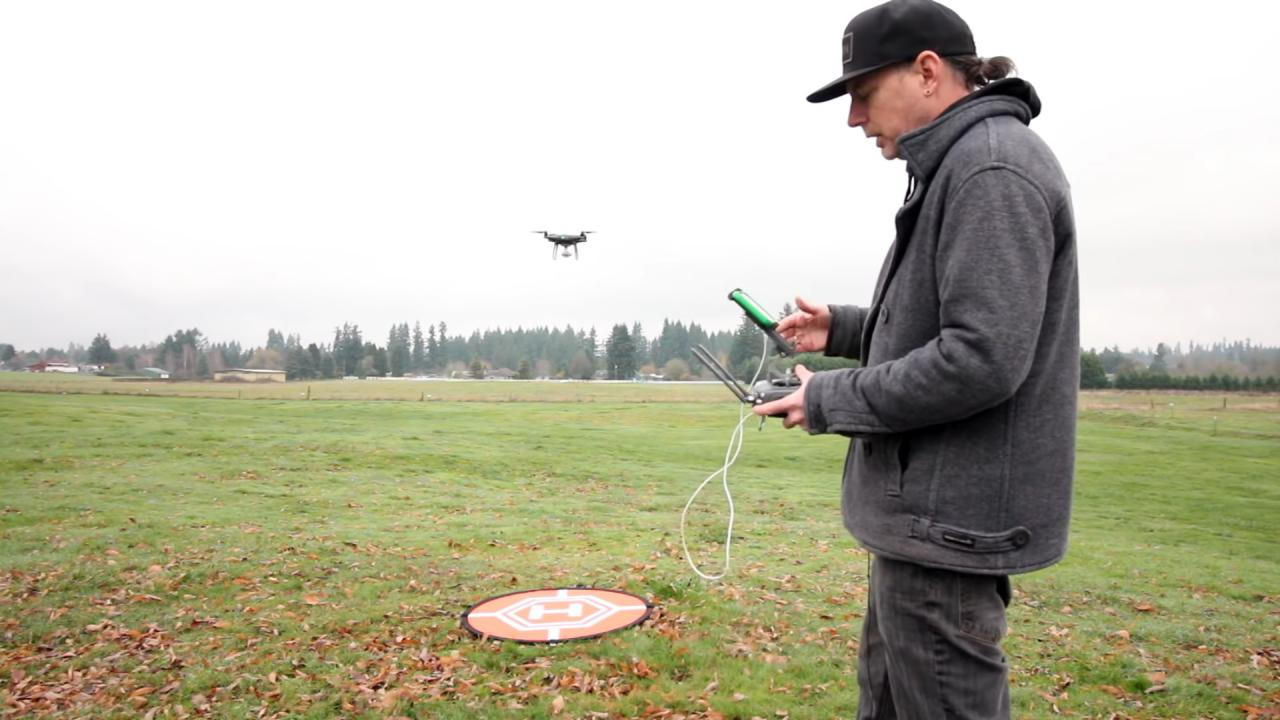Drone: (522, 221, 608, 269)
